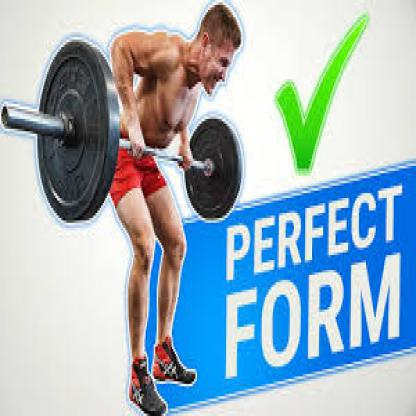Barbell: (23, 32, 125, 230)
